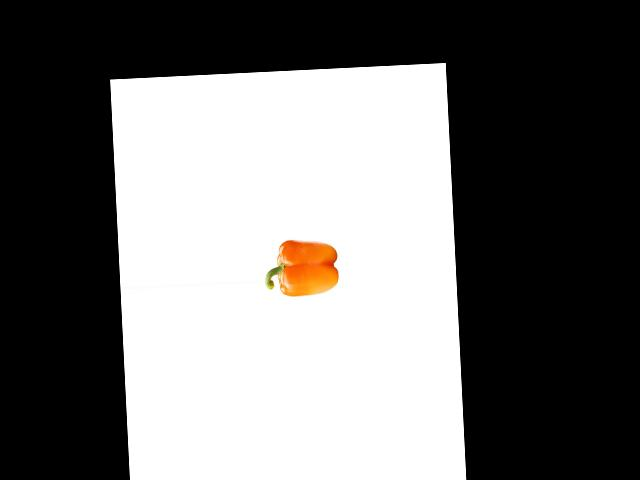bell_pepper: (263, 232, 340, 304)
